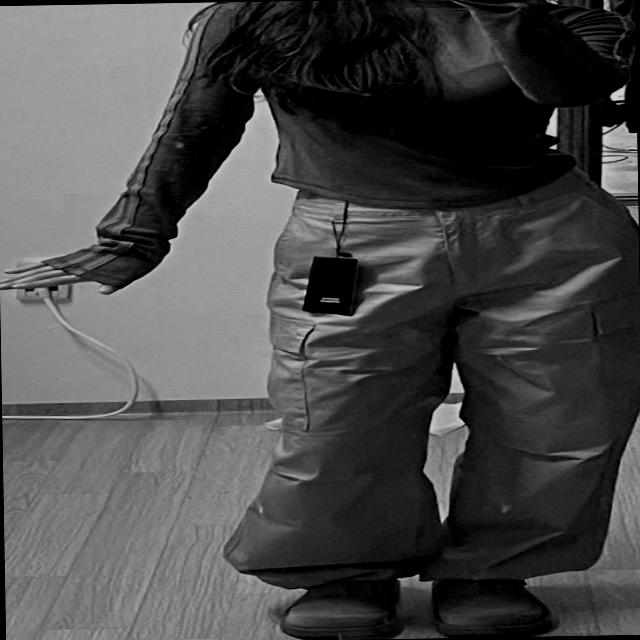cottonpants: (235, 168, 640, 601)
longsleeve: (38, 0, 639, 290)
